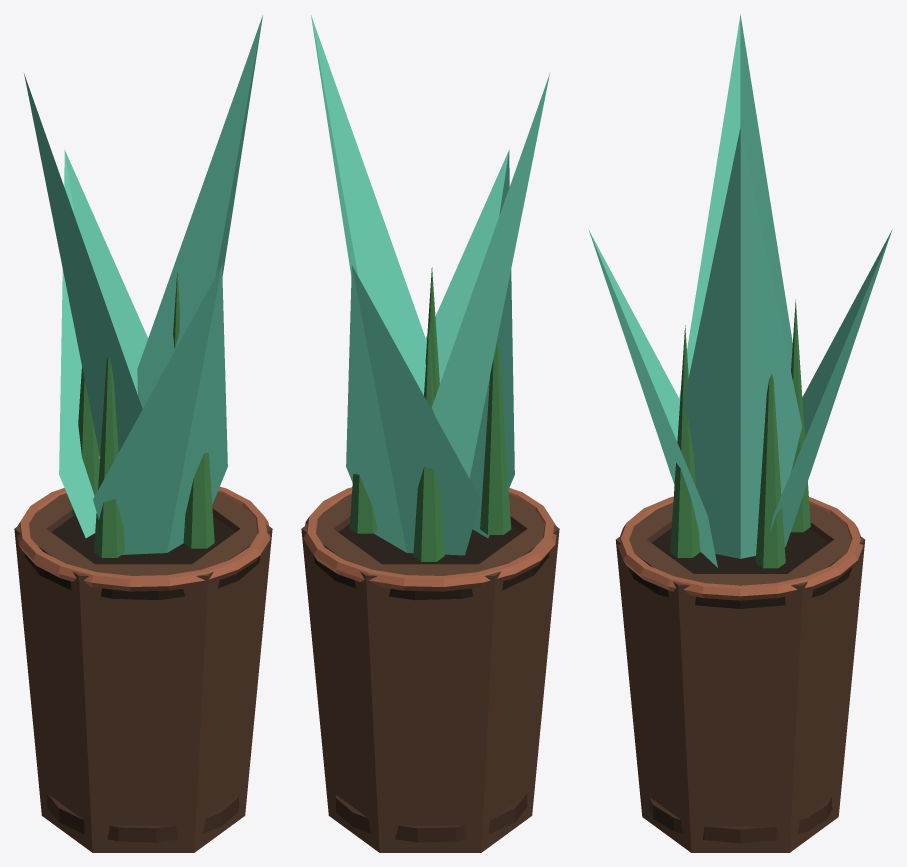
File: pottedPlant.glb
The picture shows the model from 3 angles, left to right: view 1: azimuth 30°, elevation 25°; view 2: azimuth 150°, elevation 25°; view 3: azimuth 270°, elevation 25°; orthographic projection. The views are drawn at different scales.
Visible parts, largest first — view 1: pottedPlant(Clone), plant; view 2: pottedPlant(Clone), plant; view 3: pottedPlant(Clone), plant.
Boxes of the visible parts, left/top/right/bottom form: pottedPlant(Clone): left=14, top=486, right=272, bottom=852; plant: left=24, top=15, right=262, bottom=557; pottedPlant(Clone): left=301, top=487, right=559, bottom=852; plant: left=311, top=15, right=549, bottom=561; pottedPlant(Clone): left=615, top=496, right=865, bottom=852; plant: left=588, top=14, right=892, bottom=568.
Size of the model in its own units: 0.2121 by 0.654 by 0.2415.
